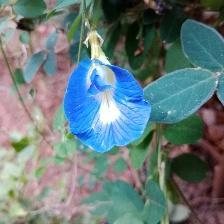shankupushpam: (62, 57, 155, 156)
